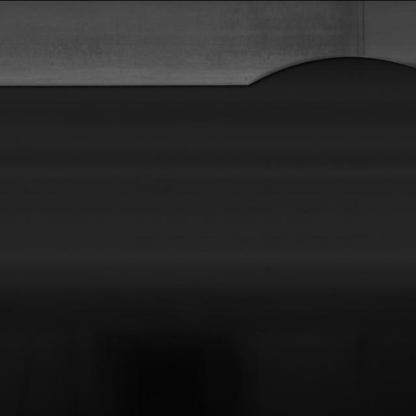crescent_gap: (235, 49, 415, 96)
welding_line: (348, 0, 371, 60)
